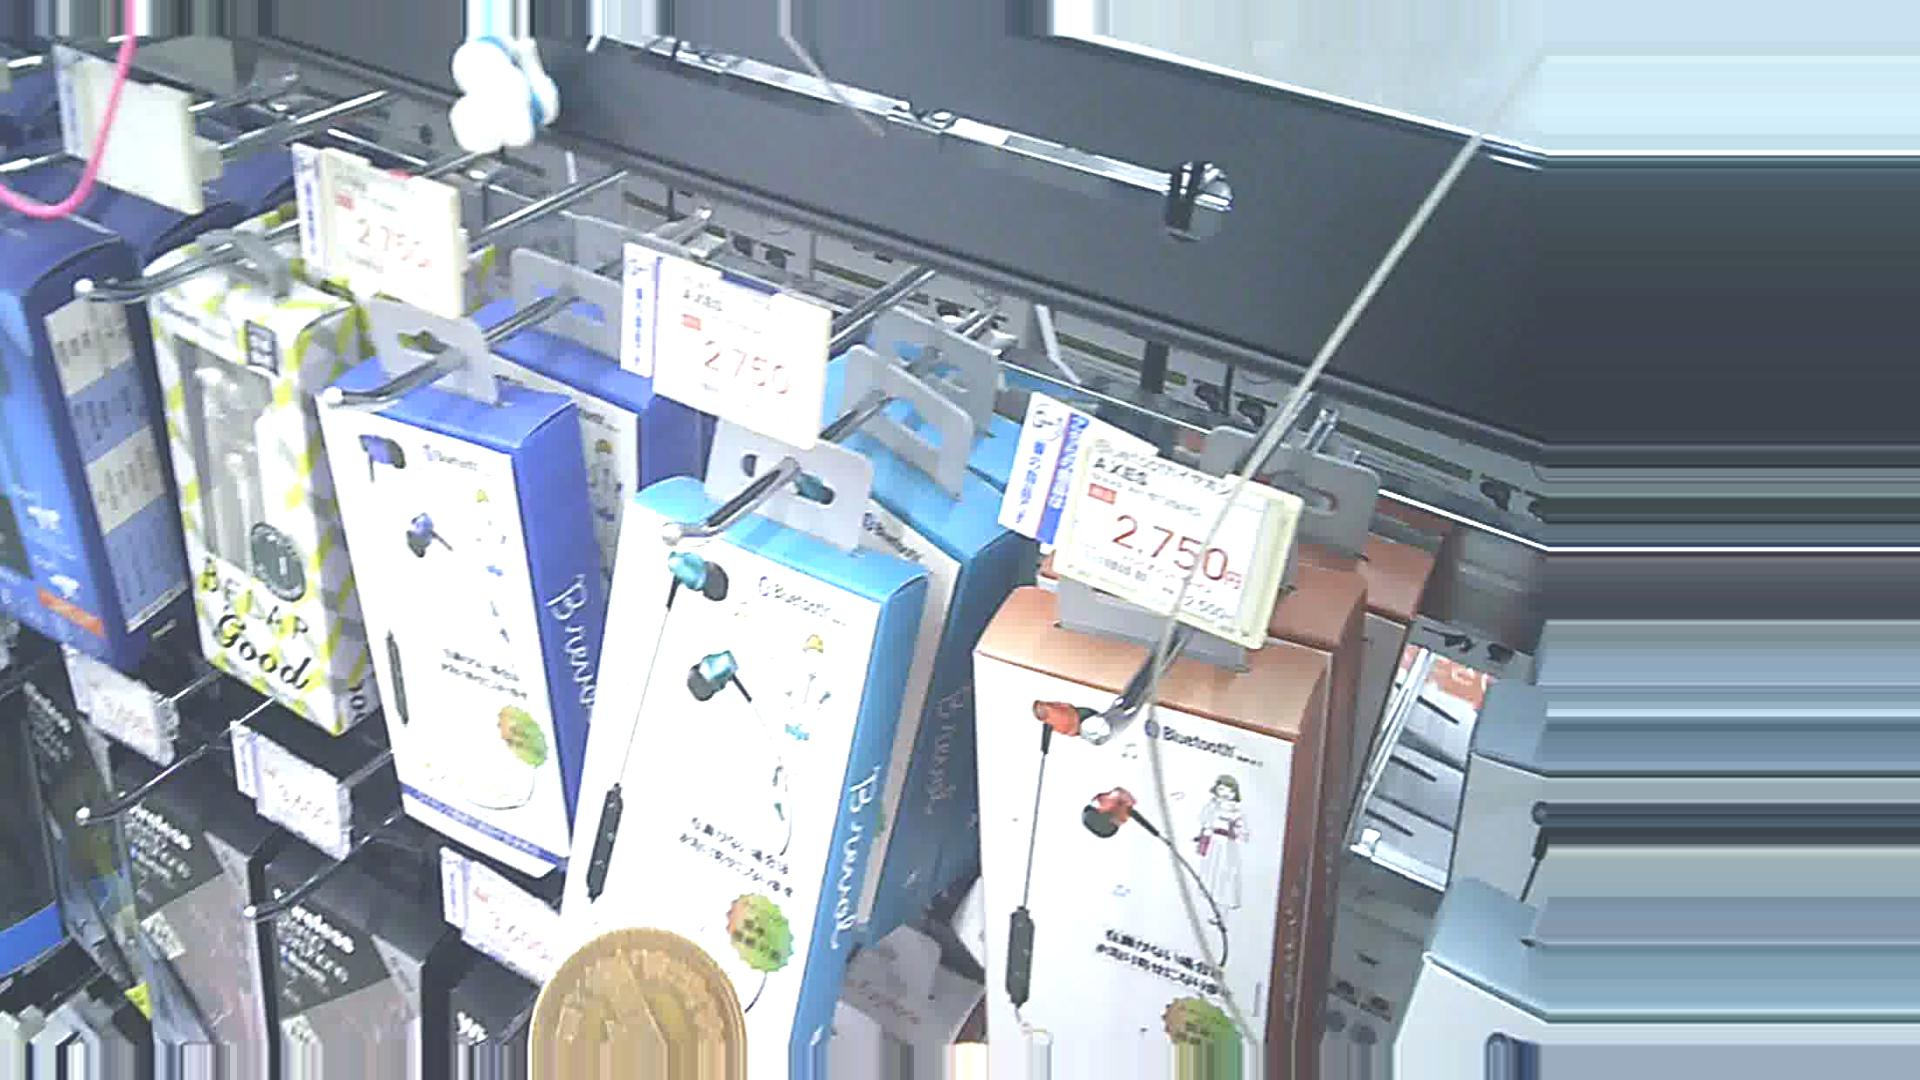10 Yen: (513, 923, 752, 1047)
